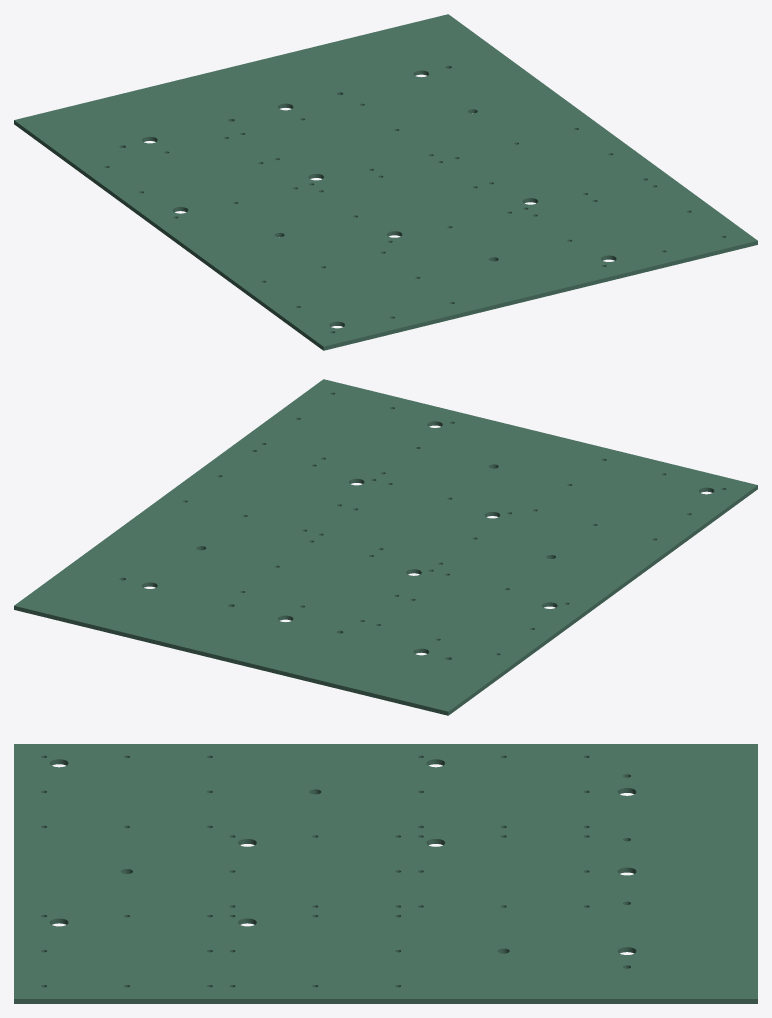
Rendered from array_plate.glb.
The picture shows the model from 3 angles, top to bottom: view 1: azimuth 30°, elevation 25°; view 2: azimuth 150°, elevation 25°; view 3: azimuth 270°, elevation 25°; orthographic projection. The views are drawn at different scales.
Parts seen in each view (by area): view 1: =>[0:1:1:2]; view 2: =>[0:1:1:2]; view 3: =>[0:1:1:2].
Part boxes in pixels (bbox=[...]): =>[0:1:1:2]: bbox=[14, 14, 757, 350]; =>[0:1:1:2]: bbox=[14, 379, 757, 715]; =>[0:1:1:2]: bbox=[14, 744, 757, 1003].
Size of the model in its own units: 0.32 by 0.00291 by 0.395.
